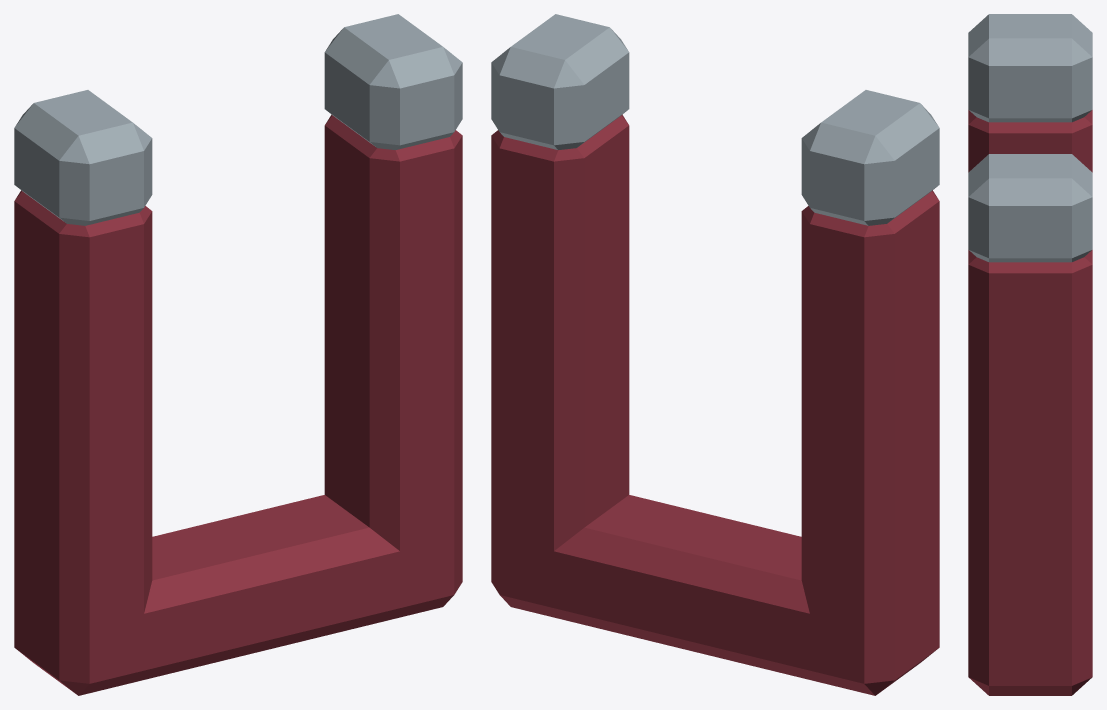
Rendered from SH10_Magnet.fbx.
3 views of the same model, side by side, from view 1: azimuth 30°, elevation 25°; view 2: azimuth 150°, elevation 25°; view 3: azimuth 270°, elevation 25° (orthographic). The views are drawn at different scales.
Parts seen in each view (by area): view 1: SH10_Magnet; view 2: SH10_Magnet; view 3: SH10_Magnet.
Part boxes in pixels (left/top/right/bottom): SH10_Magnet: left=14, top=14, right=462, bottom=695; SH10_Magnet: left=491, top=14, right=939, bottom=695; SH10_Magnet: left=968, top=14, right=1092, bottom=695.
Size of the model in its own units: 52 by 69 by 15.
